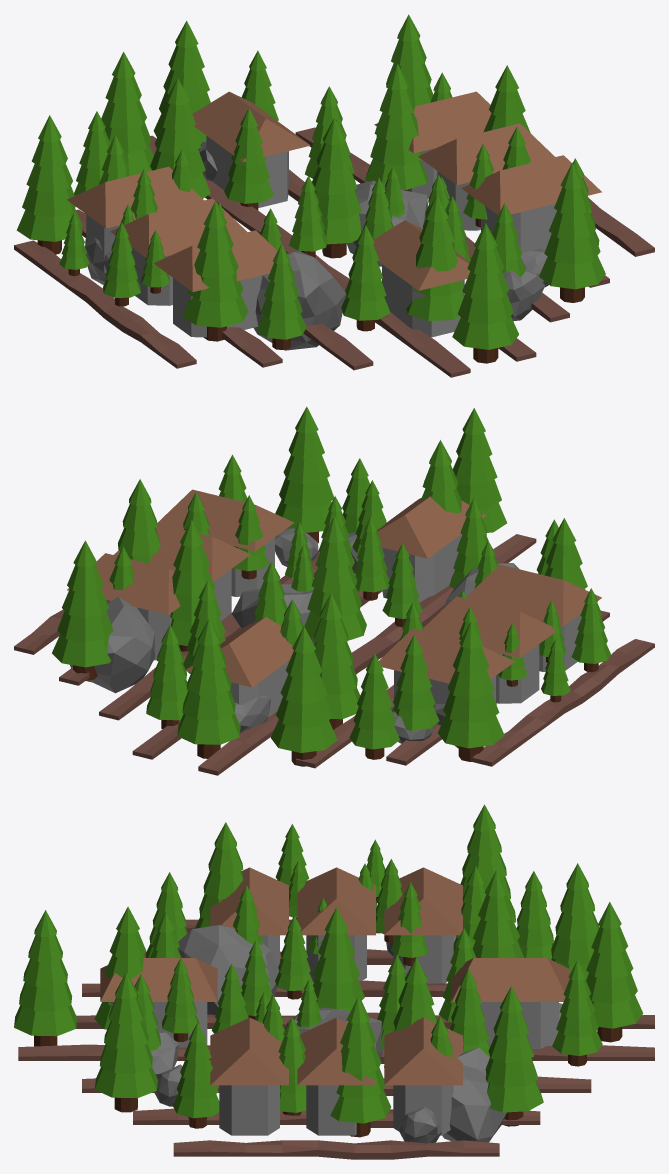
The model's file is HexTypes.fbx.
The picture shows the model from 3 angles, top to bottom: view 1: azimuth 30°, elevation 25°; view 2: azimuth 150°, elevation 25°; view 3: azimuth 270°, elevation 25°; orthographic projection.
Visible parts, largest first — view 1: Trees_1, Houses_1, Farming, Mining_1; view 2: Trees_1, Houses_1, Farming, Mining_1; view 3: Trees_1, Houses_1, Farming, Mining_1.
Boxes of the visible parts, x1,y1,x2,y2 form: Trees_1: (16, 14, 605, 363); Houses_1: (67, 91, 601, 337); Farming: (14, 127, 654, 377); Mining_1: (85, 135, 548, 350); Trees_1: (52, 406, 610, 766); Houses_1: (67, 489, 601, 724); Farming: (14, 534, 654, 775); Mining_1: (70, 522, 519, 748); Trees_1: (14, 804, 643, 1137); Houses_1: (100, 867, 569, 1135); Farming: (18, 919, 654, 1159); Mining_1: (150, 925, 562, 1143).
Bounding box in the file's own units: 150 × 48.48 × 170.
